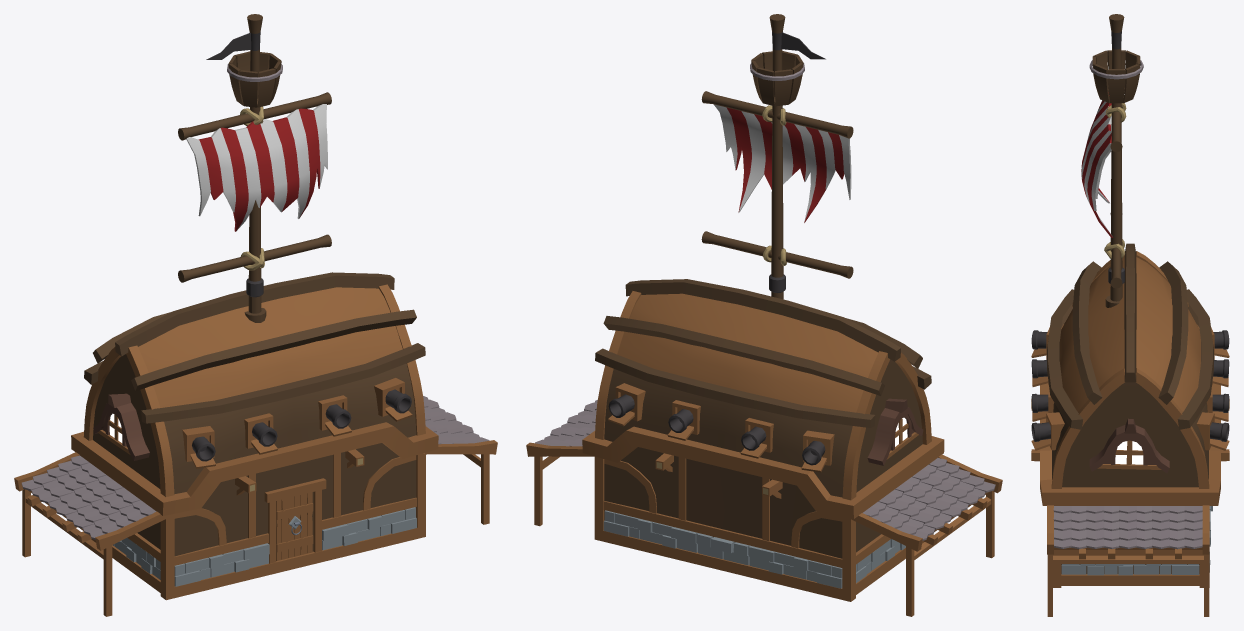
File: Environment_House3.glb
The picture shows the model from 3 angles, left to right: view 1: azimuth 30°, elevation 25°; view 2: azimuth 150°, elevation 25°; view 3: azimuth 270°, elevation 25°; orthographic projection. The views are drawn at different scales.
Visible parts, largest first — view 1: Environment_House3; view 2: Environment_House3; view 3: Environment_House3.
Boxes of the visible parts, box(x1,y1,x2,y2) form: Environment_House3: box(14, 14, 497, 616); Environment_House3: box(526, 14, 1002, 616); Environment_House3: box(1031, 14, 1229, 616).
Bounding box in the file's own units: 8.46 × 10.64 × 3.78.
Materials: 2 (1 with a texture image).
